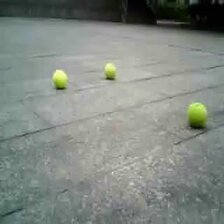tennis: (186, 102, 206, 126), (52, 69, 68, 87), (104, 63, 116, 77)
